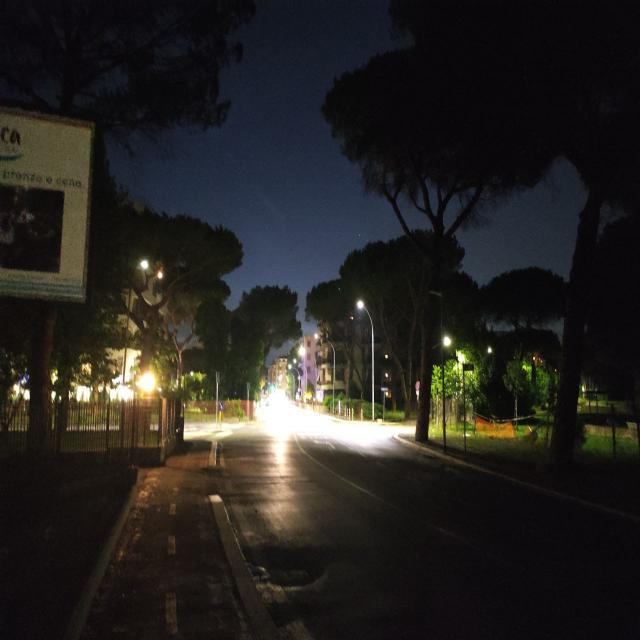lampione: (133, 364, 165, 399), (351, 292, 368, 319), (134, 254, 152, 277), (439, 327, 454, 354), (485, 341, 495, 359), (312, 330, 322, 346), (299, 346, 305, 357), (278, 374, 284, 384), (287, 363, 292, 370), (293, 358, 297, 364)
